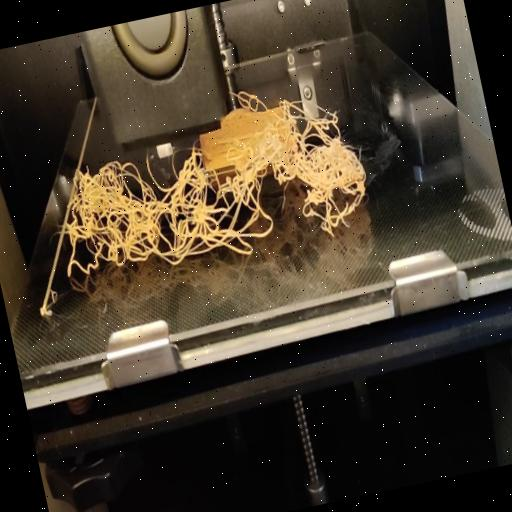spaghetti: (45, 132, 244, 306), (264, 84, 378, 248), (215, 122, 293, 262), (228, 81, 267, 119)
